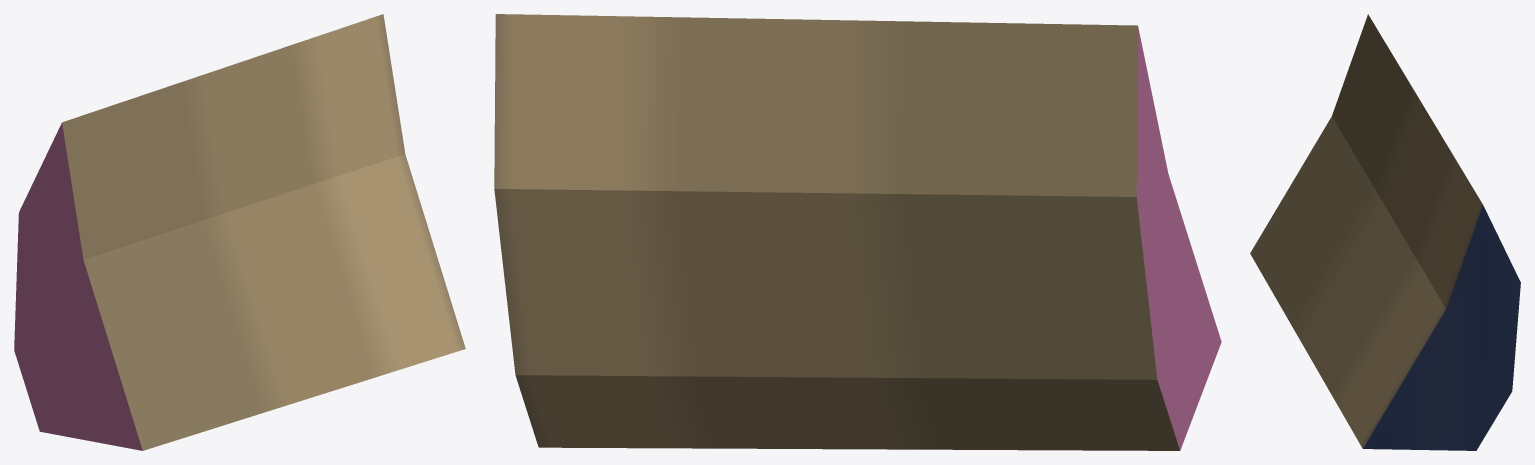
The model's file is 05de_El_Salvador.glb.
3 views of the same model, side by side, from view 1: azimuth 30°, elevation 25°; view 2: azimuth 150°, elevation 25°; view 3: azimuth 270°, elevation 25° (orthographic). The views are drawn at different scales.
Visible parts, largest first — view 1: part_0; view 2: part_0; view 3: part_0.
Boxes of the visible parts, bbox=[...] form: part_0: bbox=[14, 14, 465, 450]; part_0: bbox=[494, 14, 1221, 450]; part_0: bbox=[1250, 14, 1520, 450].
Bounding box in the file's own units: 0.211 × 0.1601 × 0.1365.
1 material, 1 textured.
